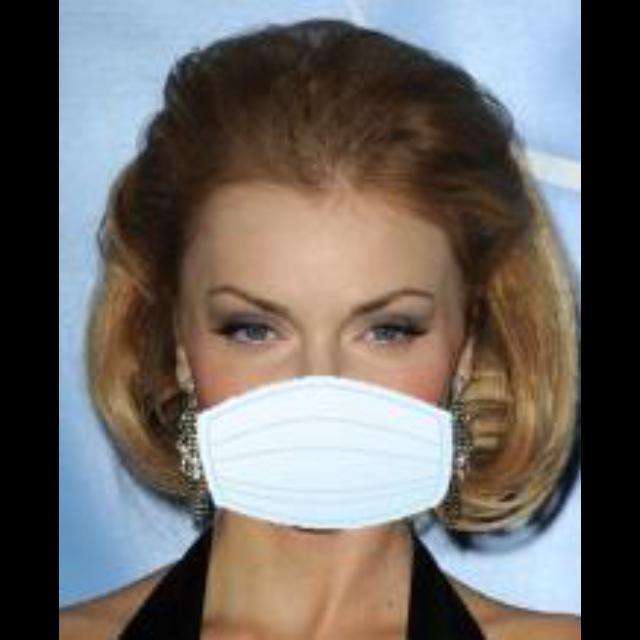suspicion: (102, 81, 536, 568)
